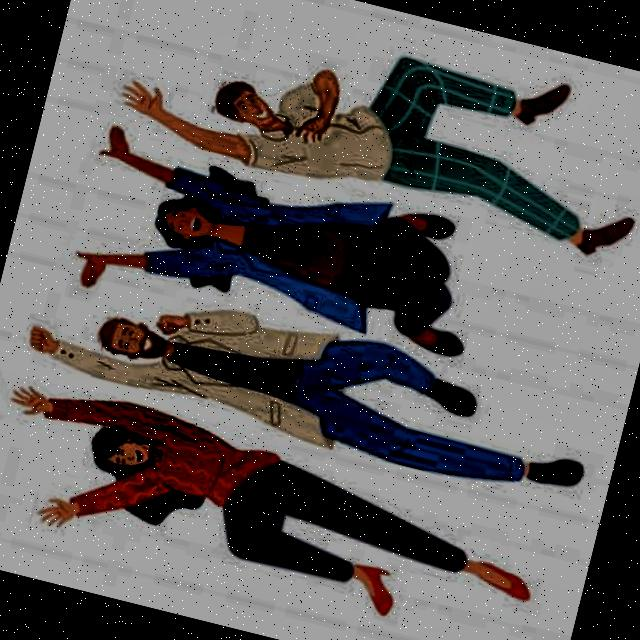happy: (78, 291, 178, 384), (205, 63, 299, 149), (75, 406, 170, 491), (139, 181, 233, 265)
